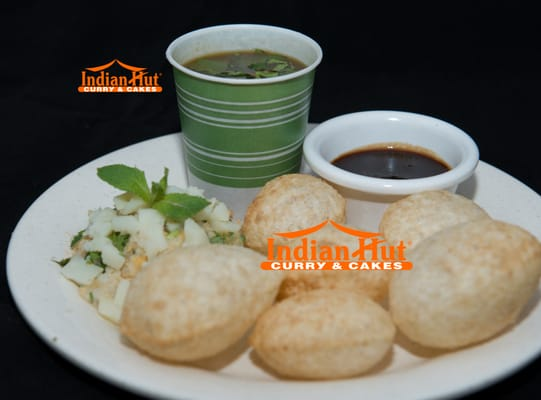pizza: (165, 23, 324, 188), (300, 109, 480, 205)
soup: (241, 172, 347, 256)
sushi: (301, 108, 479, 207)
